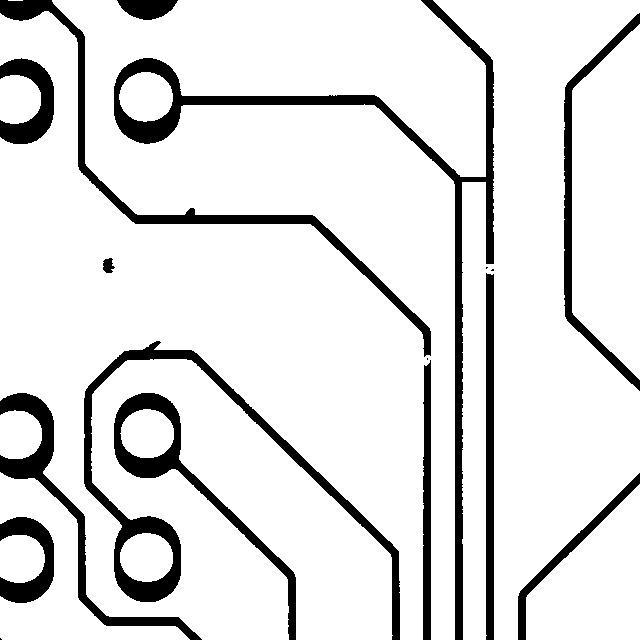copper: (93, 248, 124, 282)
open: (471, 254, 505, 284), (411, 345, 440, 375)
short: (447, 167, 496, 191)
spur: (132, 331, 170, 364), (174, 198, 204, 228)
